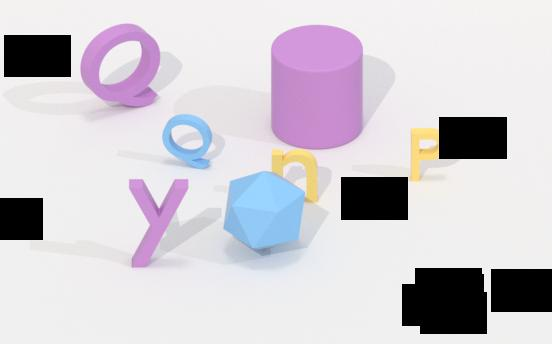Y: (121, 173, 194, 270)
dagiac: (221, 170, 309, 254)
n: (269, 147, 322, 208)
p: (409, 125, 448, 185)
q: (79, 21, 162, 112), (160, 112, 214, 171)
tru: (268, 22, 367, 150)
